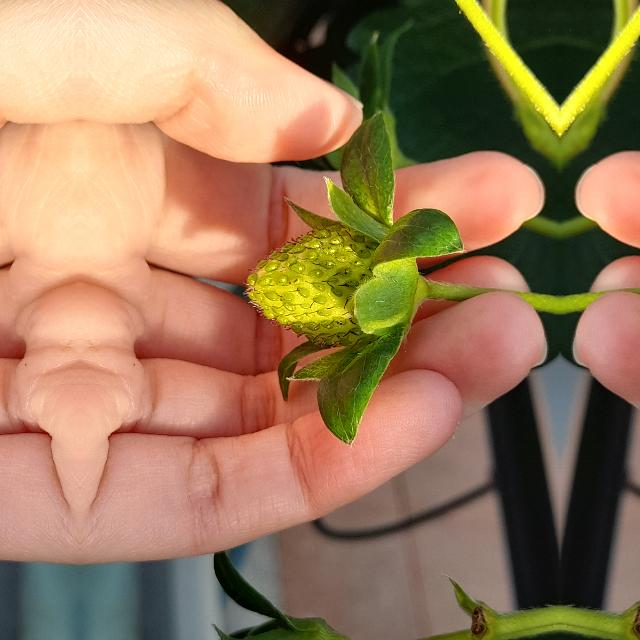Health_25: (242, 222, 384, 348)
